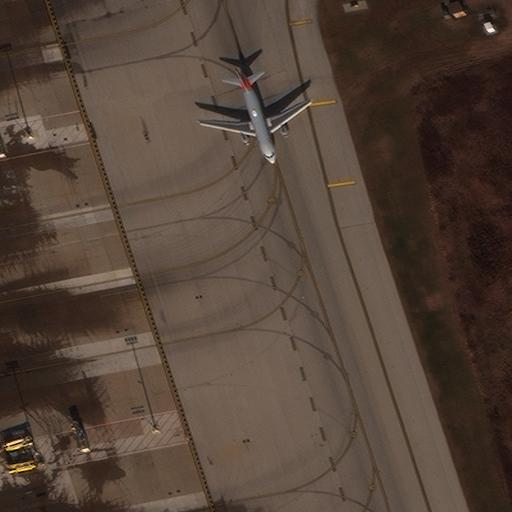Medium Civil Transport: (200, 68, 311, 163)
